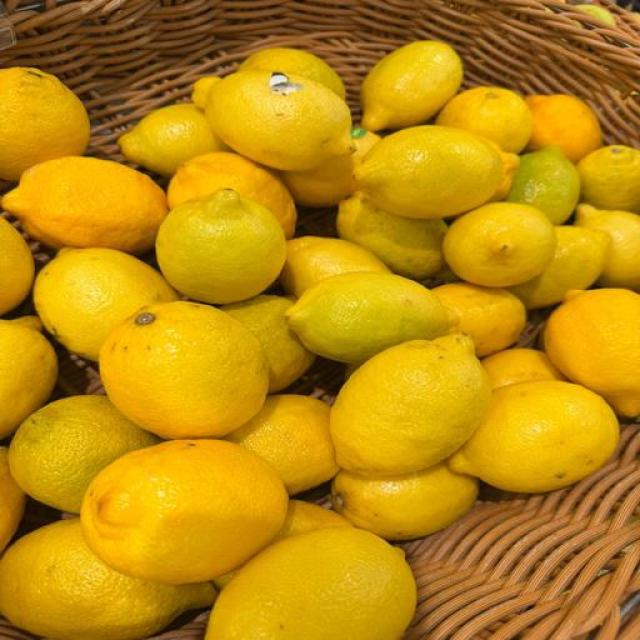organic: (0, 0, 639, 159), (9, 395, 159, 513), (287, 273, 451, 363), (507, 147, 579, 224)
